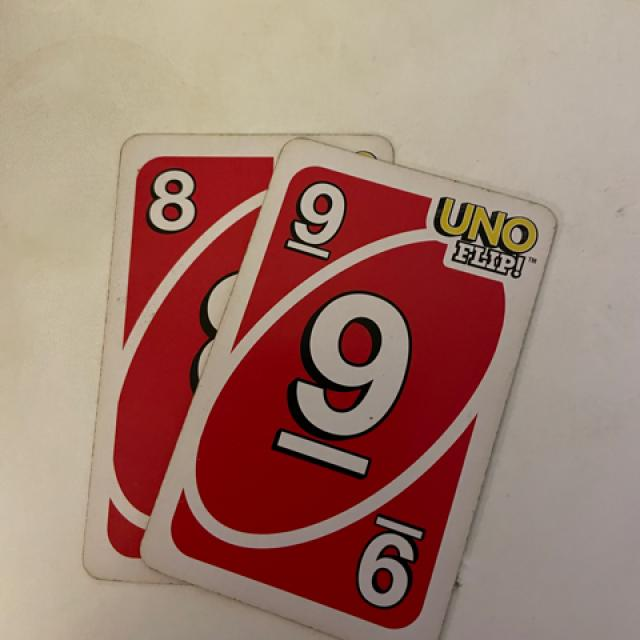lred-8: (133, 151, 215, 252)
lred-9: (284, 168, 350, 276)
